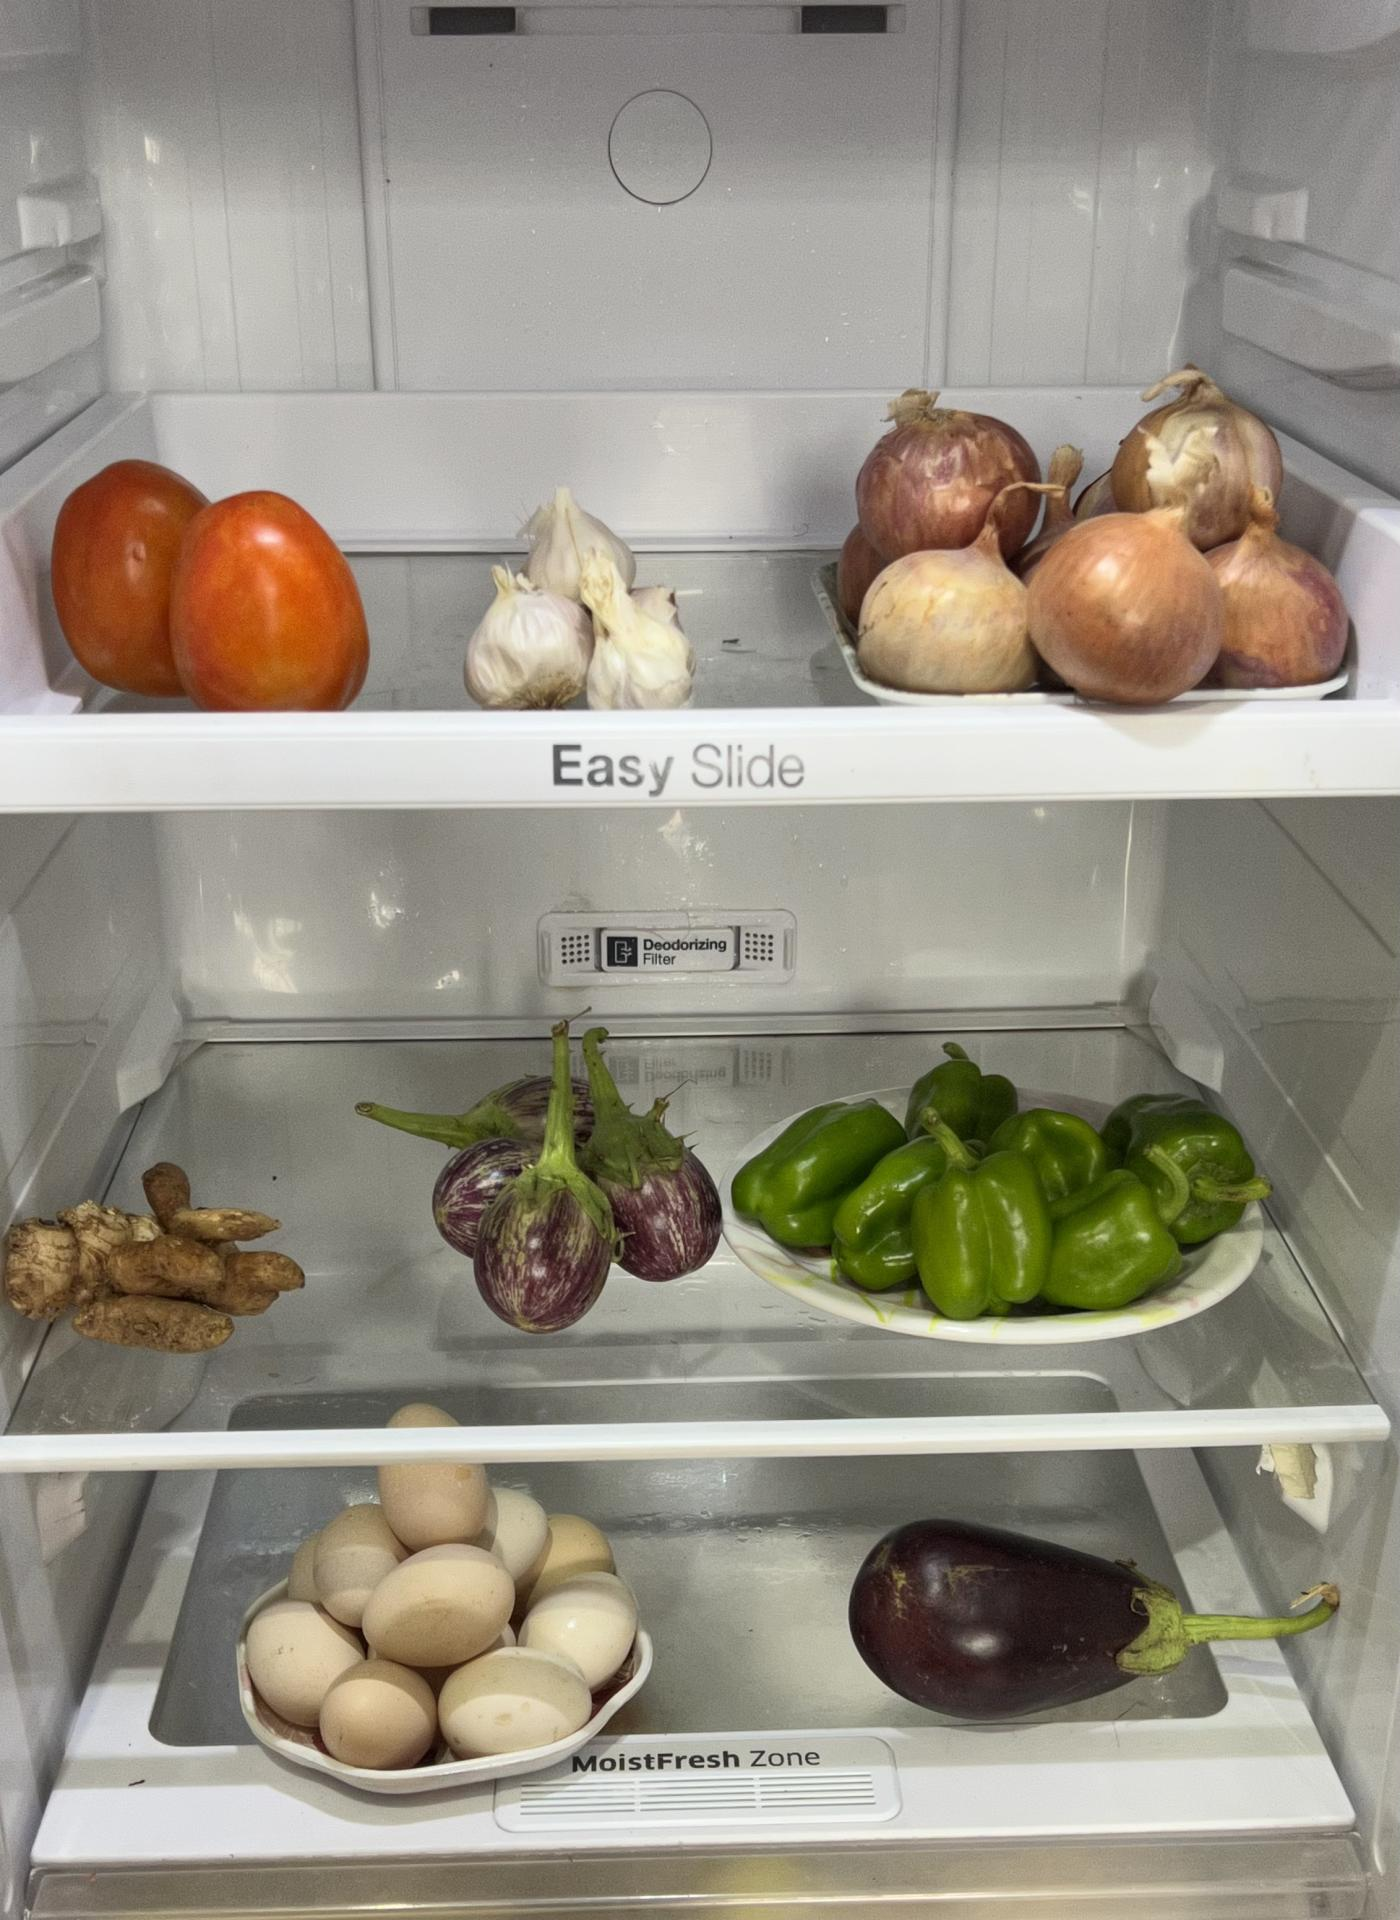capsicum: (738, 1048, 1296, 1321)
egg: (239, 1458, 641, 1766)
garlic: (465, 481, 699, 713)
ginger: (1, 1143, 307, 1358)
onion: (829, 374, 1351, 701)
tomato: (45, 453, 376, 714)
